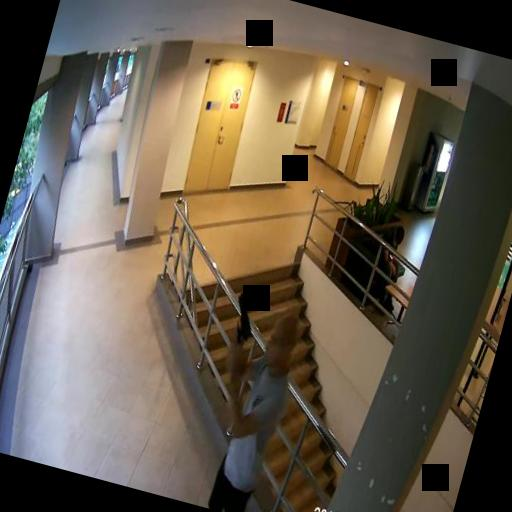Handgun: (224, 290, 258, 351)
